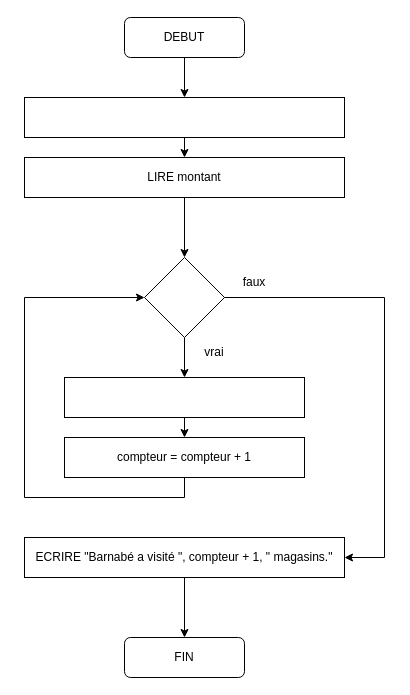
Some shapes in this 410 by 695 pixel diagram are drawn without their labels. Here are the shapes that lost their labels. From the top down, the centre of each, then its label:
point 184,117: ECRIRE "Veuillez saisir le montant de départ : "
point 184,297: montant > 1
point 184,397: montant = montant/2 - 1
